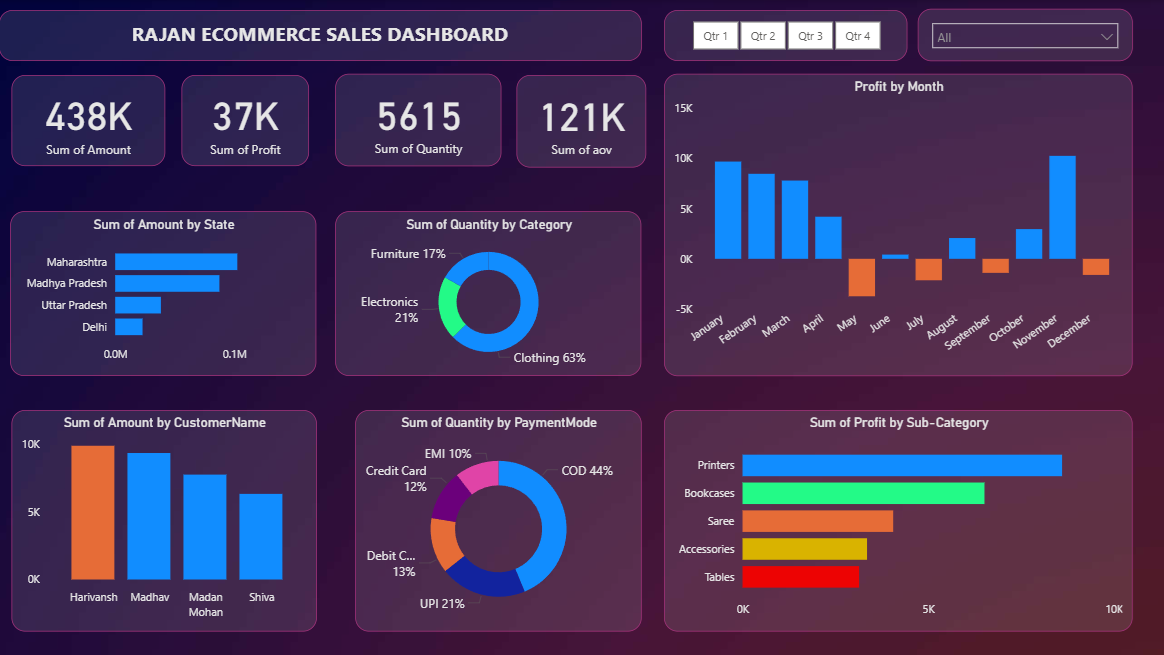

What the dashboard file says about the page in this screenshot:
{"tool":"powerbi","page":{"name":"Page 1","canvas":[1280,720],"ordinal":0},"visuals":[{"type":"textbox","box":[0,11,705.3,56.3],"z":0},{"type":"columnChart","title":"Profit by Month","fields":{"Category":["Orders.Order Date.Variation.Date Hierarchy.Month"],"Y":["Sum(Details.Profit)"]},"box":[730,81,514.6,332.1],"z":1000},{"type":"barChart","fields":{"Category":["Details.Sub-Category"],"Y":["Sum(Details.Profit)"]},"box":[730,450.1,514.6,242.9],"z":2000},{"type":"donutChart","fields":{"Category":["Details.Category"],"Y":["Sum(Details.Quantity)"]},"box":[369.1,207.2,336.2,205.8],"z":3000},{"type":"donutChart","fields":{"Y":["Sum(Details.Quantity)"],"Category":["Details.PaymentMode"]},"box":[369.1,450.1,336.2,242.9],"z":4000},{"type":"card","fields":{"Values":["Sum(Details.Amount)"]},"box":[13.7,82.3,168.8,100.2],"z":5000},{"type":"card","fields":{"Values":["Sum(Details.Quantity)"]},"box":[369.1,81,182.5,101.5],"z":6000},{"type":"card","fields":{"Values":["Sum(Details.Profit)"]},"box":[200.3,82.3,140,100.2],"z":7000},{"type":"card","fields":{"Values":["Sum(Details.aov)"]},"box":[568.1,82.3,142.7,101.5],"z":8000},{"type":"barChart","fields":{"Category":["Orders.State"],"Y":["Sum(Details.Amount)"]},"box":[12.3,207.2,336.2,205.8],"z":9000},{"type":"columnChart","fields":{"Category":["Orders.CustomerName"],"Y":["Sum(Details.Amount)"]},"box":[13.7,450.1,334.8,242.9],"z":10000},{"type":"slicer","fields":{"Values":["Orders.Order Date.Variation.Date Hierarchy.Quarter"]},"box":[730,11,267.6,56.3],"z":11000},{"type":"slicer","fields":{"Values":["Orders.State"]},"box":[1008.6,9.6,236,57.6],"z":12000}]}

Visuals, with their boxes in screenshot pixels (x1, y1, x2, y2), scaled from the page's 1280x720 canvas onto the 1164x655 screenshot:
textbox: bbox=(0, 10, 641, 61)
"Profit by Month" columnChart: bbox=(664, 74, 1132, 376)
barChart - Details.Sub-Category x Sum(Details.Profit): bbox=(664, 409, 1132, 630)
donutChart - Details.Category x Sum(Details.Quantity): bbox=(336, 188, 641, 376)
donutChart - Sum(Details.Quantity) x Details.PaymentMode: bbox=(336, 409, 641, 630)
card - Sum(Details.Amount): bbox=(12, 75, 166, 166)
card - Sum(Details.Quantity): bbox=(336, 74, 502, 166)
card - Sum(Details.Profit): bbox=(182, 75, 309, 166)
card - Sum(Details.aov): bbox=(517, 75, 646, 167)
barChart - Orders.State x Sum(Details.Amount): bbox=(11, 188, 317, 376)
columnChart - Orders.CustomerName x Sum(Details.Amount): bbox=(12, 409, 317, 630)
slicer - Orders.Order Date.Variation.Date Hierarchy.Quarter: bbox=(664, 10, 907, 61)
slicer - Orders.State: bbox=(917, 9, 1132, 61)
